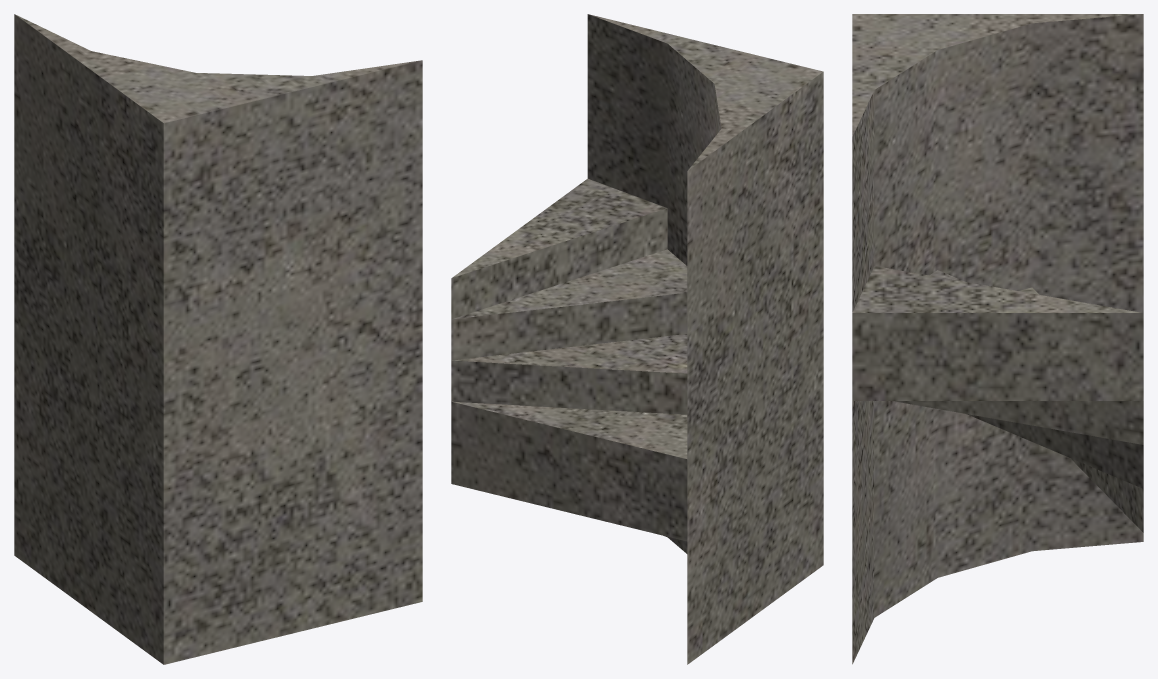
The model's file is WF_SpiralStairsR1mB.obj.
3 renders of one model, left to right at view 1: azimuth 30°, elevation 25°; view 2: azimuth 150°, elevation 25°; view 3: azimuth 270°, elevation 25°, orthographic. The views are drawn at different scales.
Parts seen in each view (by area): view 1: object 2; view 2: object 2, unnamed_object1; view 3: object 2, unnamed_object1.
Boxes of the visible parts, box(x1,y1,x2,y2) form: object 2: box(14, 14, 422, 664); object 2: box(587, 14, 823, 664); unnamed_object1: box(451, 178, 687, 541); object 2: box(852, 14, 1143, 664); unnamed_object1: box(852, 266, 1143, 532).
Size of the model in its own units: 1 by 2 by 1.
Materials: 1 (1 with a texture image).
